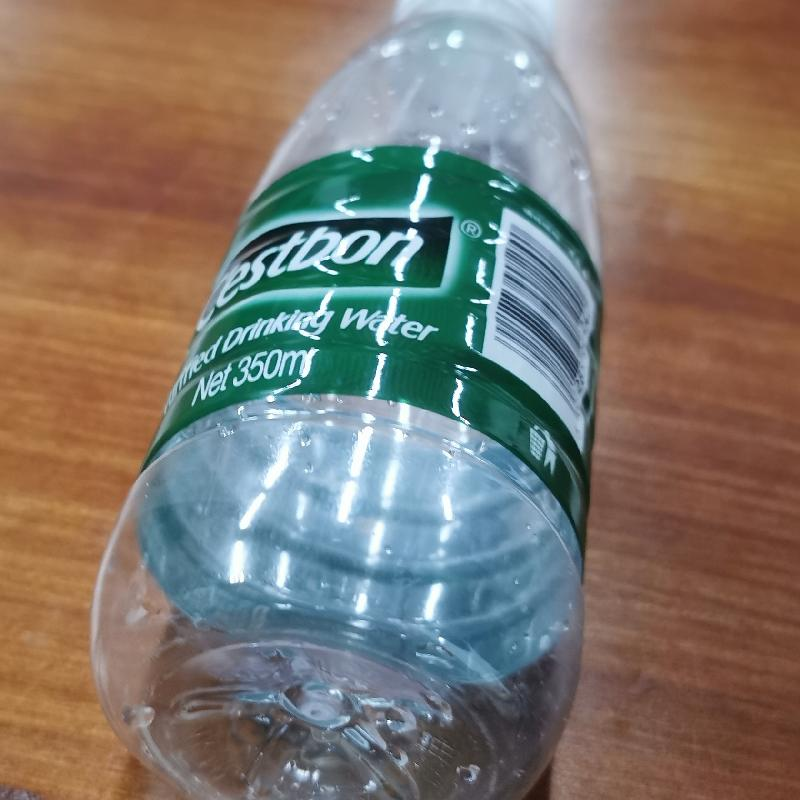bottles: (86, 5, 608, 799)
